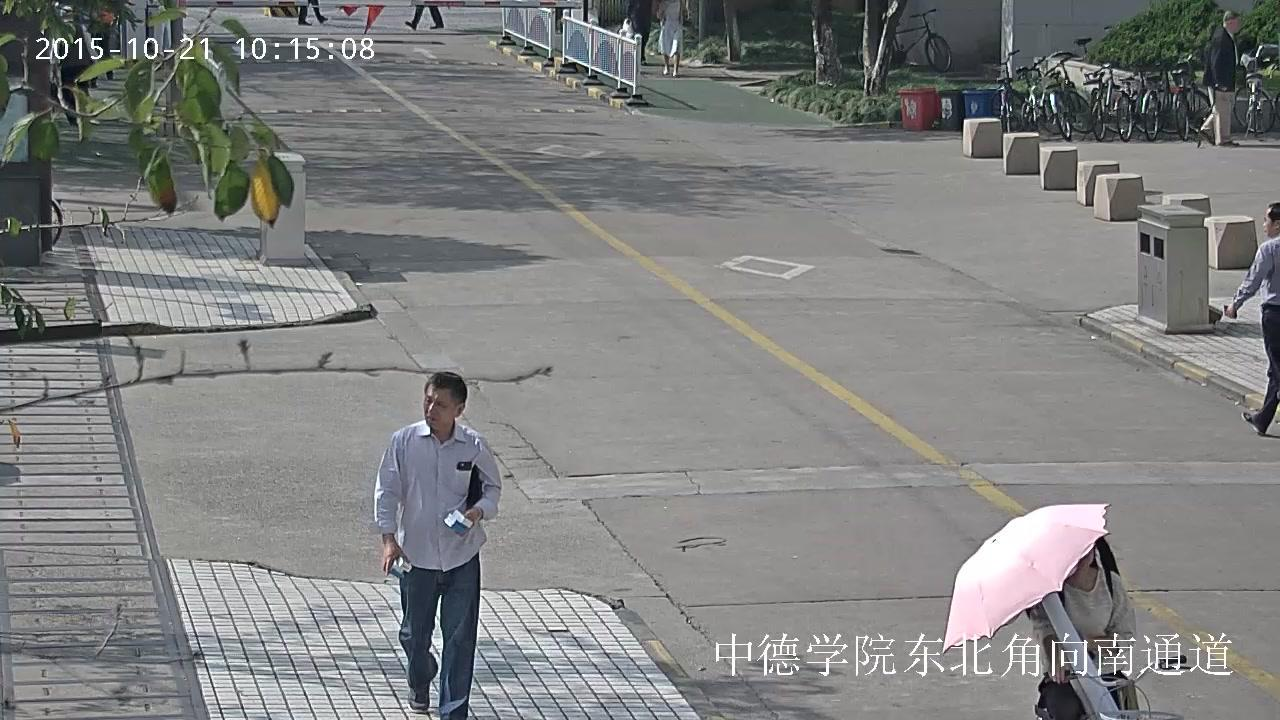face: (424, 385, 455, 427), (1264, 205, 1276, 236), (1232, 19, 1238, 30)
